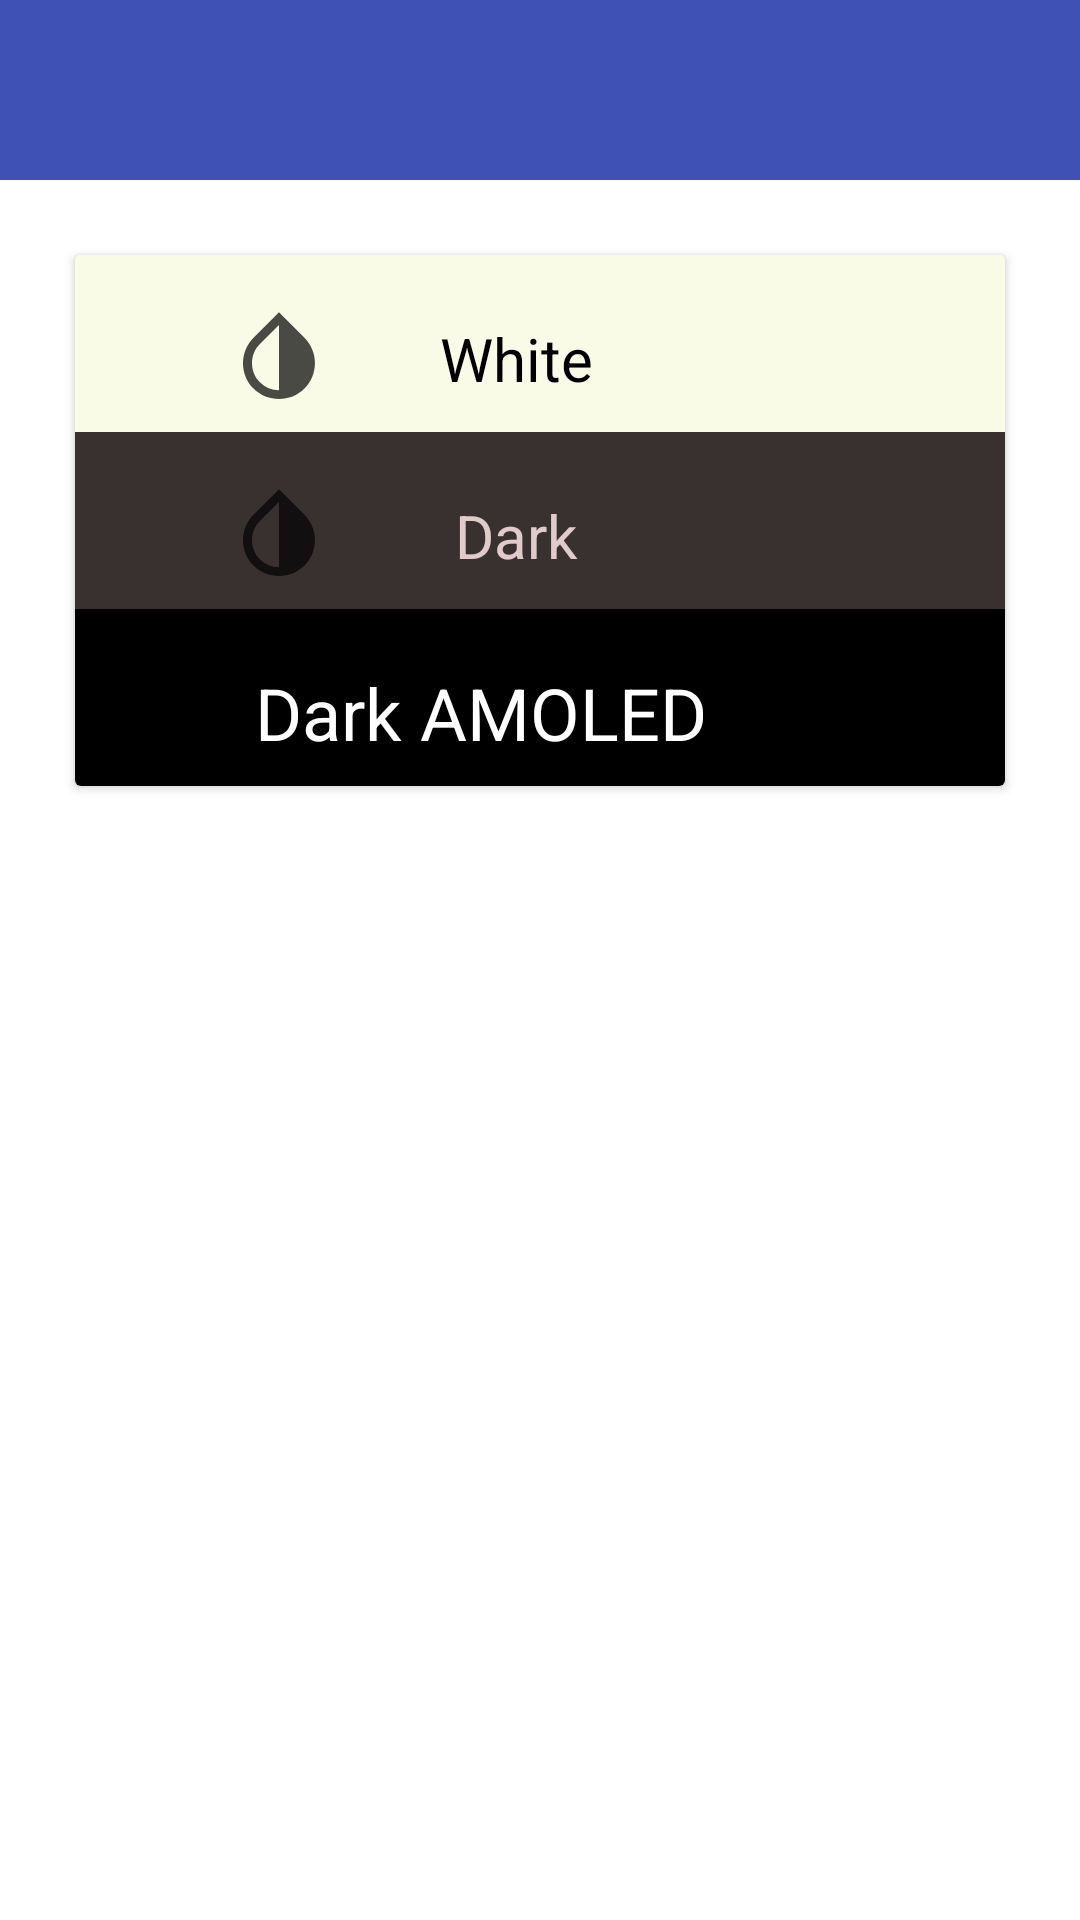

Named icons in this screenshot (1080x1920) and their centers, (x,y):
basetheme: (279,355), (279,533)
